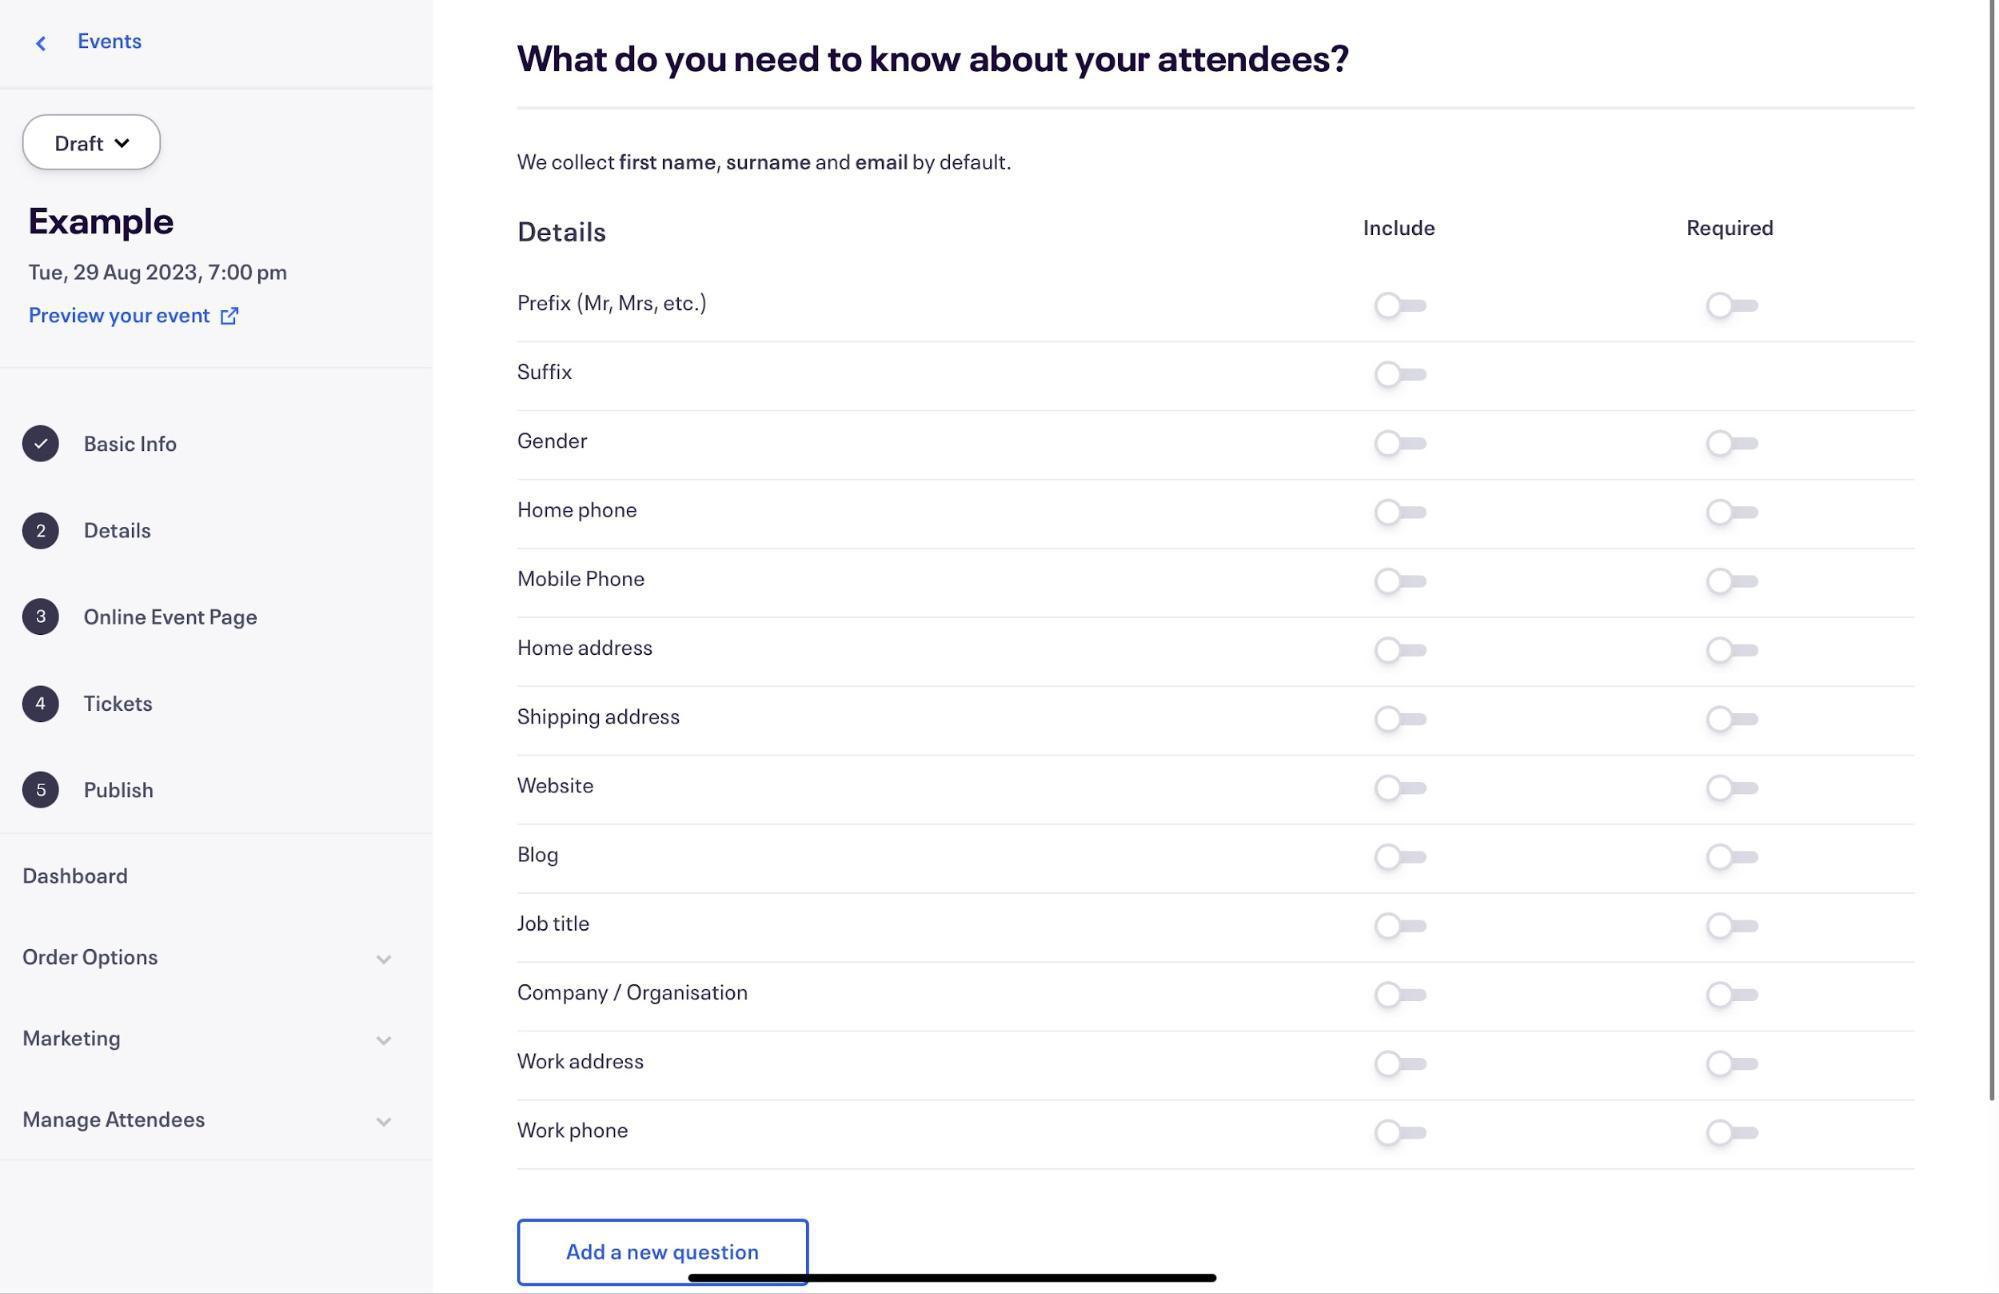button: (4, 834, 433, 909), (519, 1221, 809, 1287)
dropdown: (20, 115, 165, 173)
icon: (17, 423, 68, 471), (19, 510, 61, 552), (23, 769, 63, 815), (20, 597, 61, 640), (23, 683, 61, 724)
label: (511, 976, 763, 1016), (503, 287, 712, 322), (507, 698, 689, 734), (508, 1112, 640, 1160), (507, 562, 653, 600), (507, 493, 648, 528), (87, 603, 256, 632), (511, 1046, 650, 1078), (1689, 200, 1780, 245), (513, 634, 661, 662), (511, 423, 597, 466), (1354, 211, 1442, 251), (510, 906, 600, 944), (506, 769, 602, 804), (507, 354, 589, 393), (73, 691, 157, 729), (83, 431, 186, 462), (80, 516, 154, 552), (83, 780, 154, 809), (507, 841, 574, 871)
switch: (1348, 839, 1450, 882), (1689, 836, 1780, 883), (1358, 493, 1442, 541), (1370, 971, 1438, 1027), (1690, 630, 1778, 673), (1359, 766, 1444, 810), (1362, 698, 1445, 742), (1694, 286, 1776, 329), (1697, 975, 1778, 1019), (1364, 630, 1440, 673), (1364, 421, 1437, 465), (1703, 564, 1776, 608), (1697, 906, 1772, 949), (1702, 426, 1772, 469), (1365, 908, 1442, 947), (1367, 1045, 1440, 1086), (1705, 494, 1772, 538), (1370, 357, 1438, 399), (1694, 772, 1783, 804), (1367, 1119, 1444, 1156), (1693, 701, 1769, 737), (1370, 565, 1438, 605), (1705, 1048, 1770, 1087), (1370, 287, 1434, 326), (1705, 1119, 1762, 1150)
